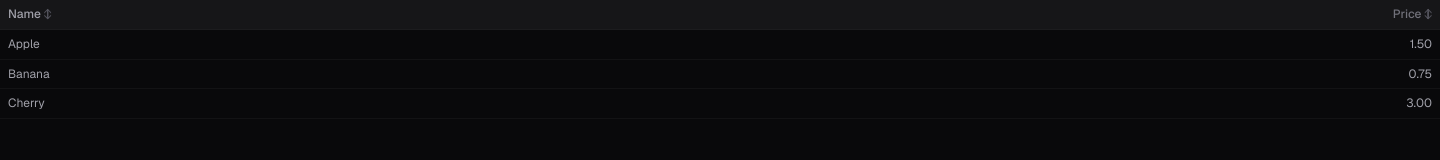
Scenario: Table › sorts ascending on first click
This screenshot has width=1440, height=160.
What coordinates should you click on to do the following:
click the column heading "Price ↕"
I would click on:
 (1093, 15)
Its box is [747, 0, 1439, 29].
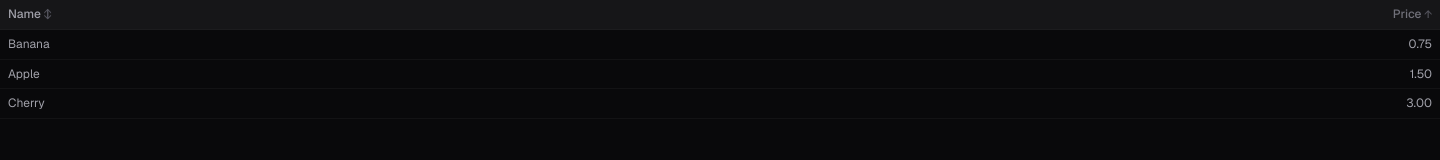
Now the cell "0.75" is shown, box [747, 29, 1439, 59]
